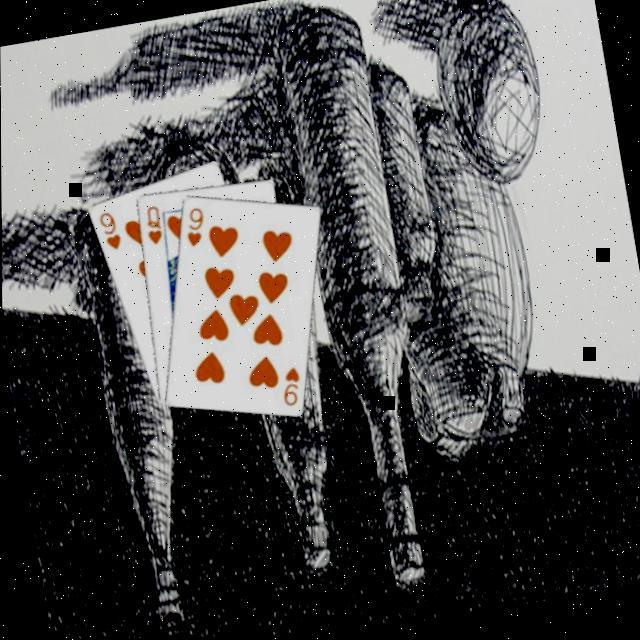9H: (277, 364, 309, 412), (180, 205, 212, 252), (96, 209, 127, 257)
QH: (142, 202, 168, 250)
